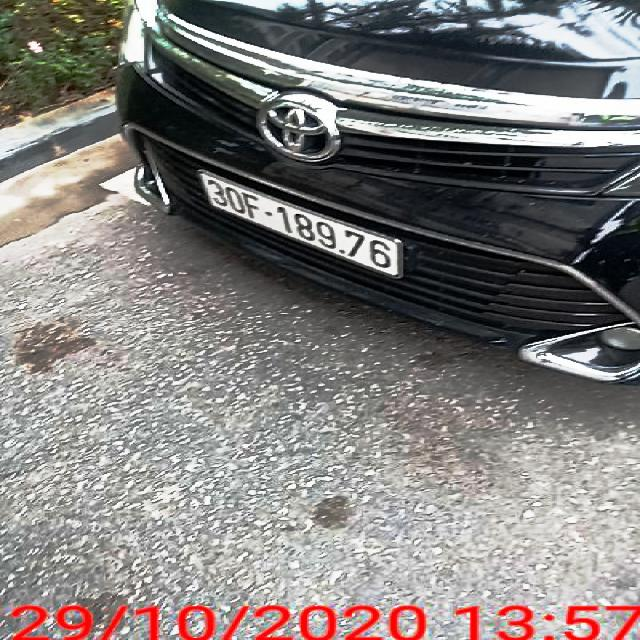license_plate: (201, 172, 401, 281)
